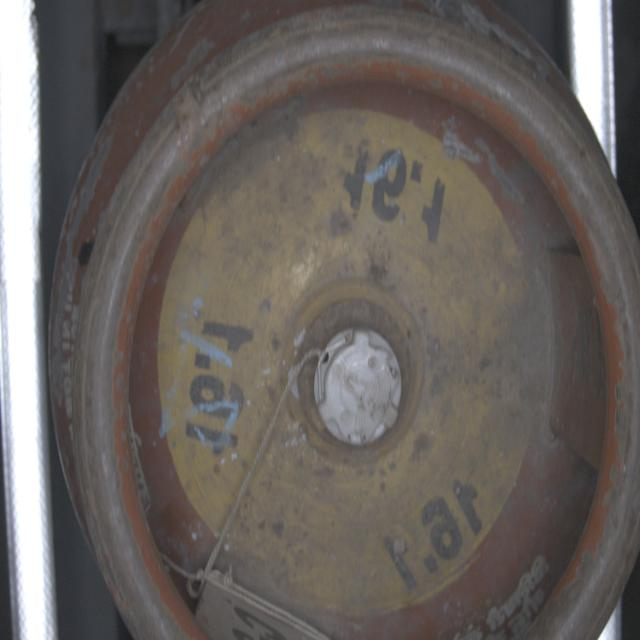Cap: (313, 327, 405, 453)
